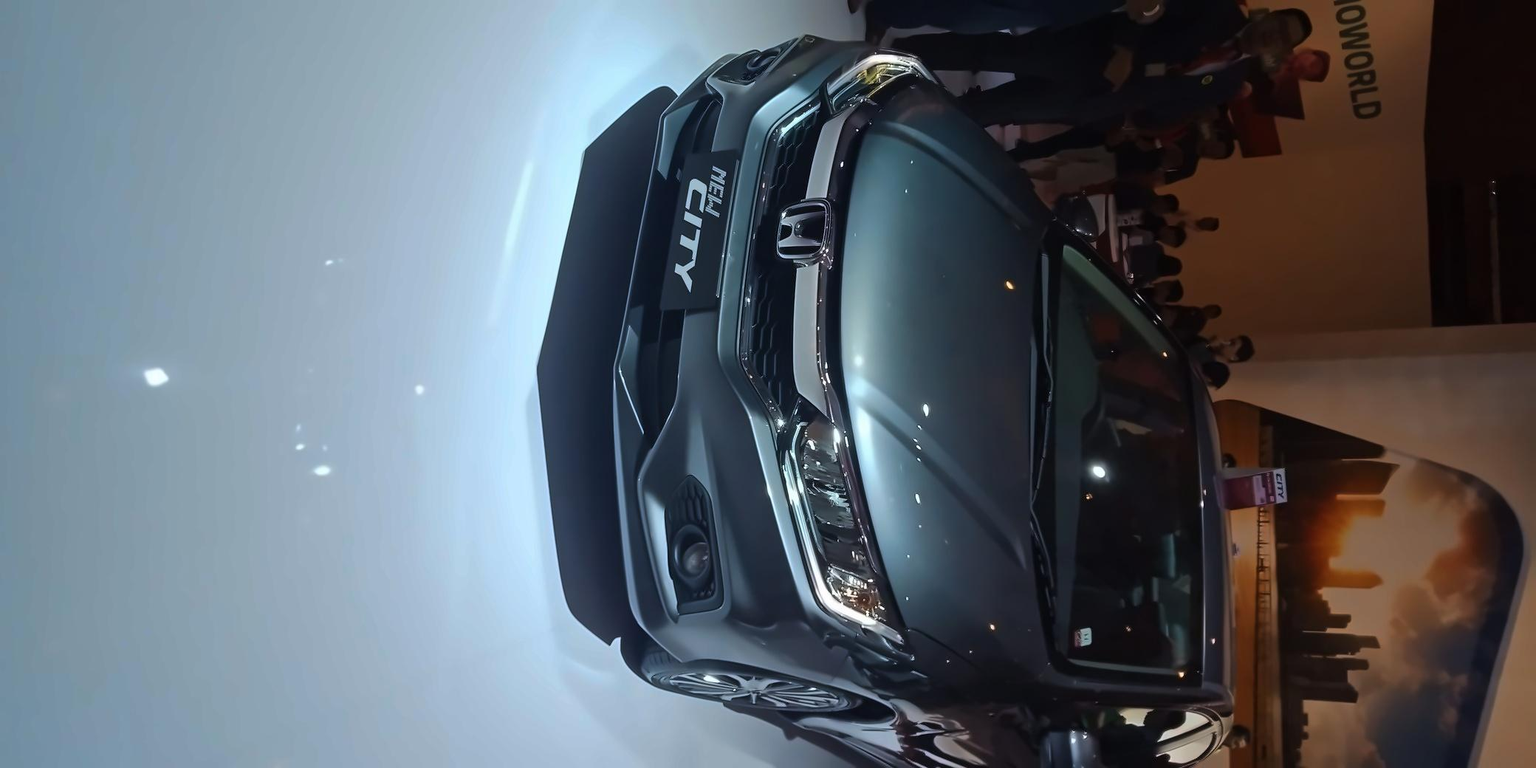Car hood: (826, 77, 1060, 696)
Fender - -F-L-: (821, 621, 1047, 759)
Front bumper: (595, 19, 843, 688)
Headlight - -L-: (763, 388, 915, 659)
Headlight - -R-: (811, 43, 947, 129)
Side mirror - -L-: (1029, 704, 1118, 768)
Side mirror - -R-: (1034, 170, 1125, 270)
